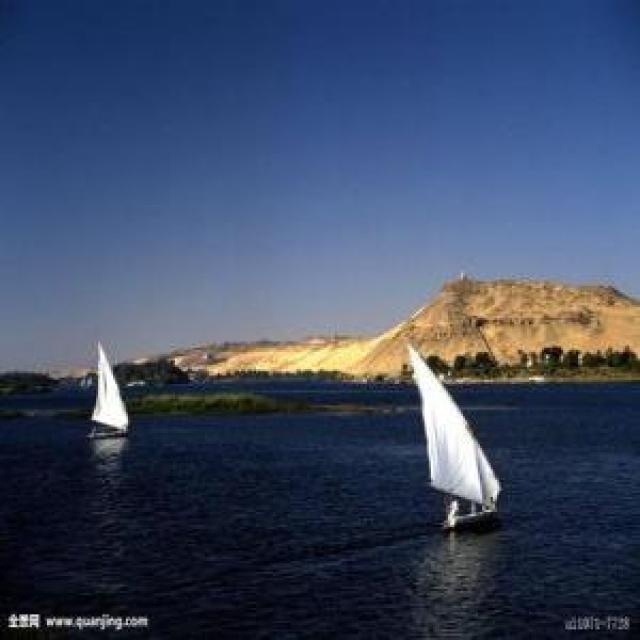sailboat: (396, 340, 507, 529), (70, 329, 136, 440)
